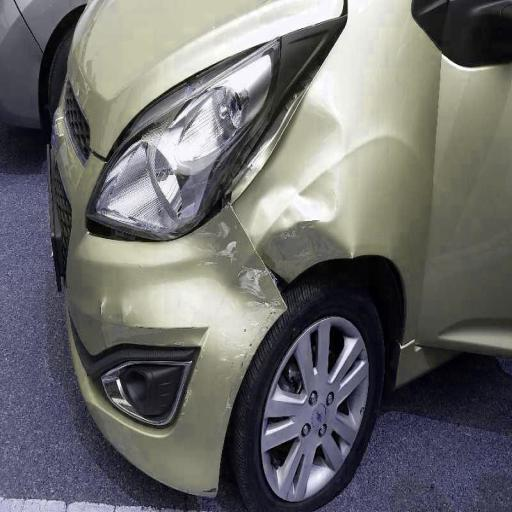dent: (185, 91, 334, 293)
